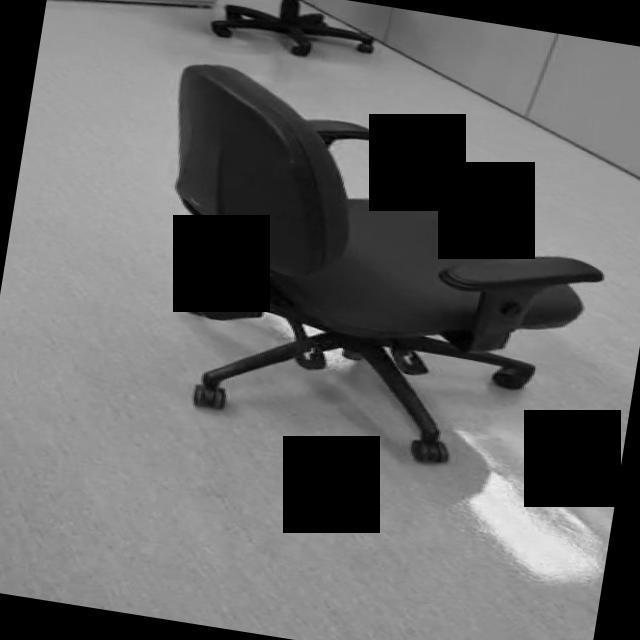chair: (128, 58, 630, 486)
